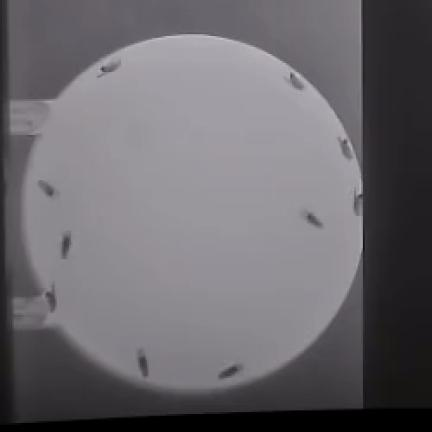fly: (218, 364, 243, 379), (99, 60, 120, 77), (339, 137, 354, 160), (303, 211, 323, 228), (45, 285, 57, 311), (61, 231, 72, 259), (39, 180, 57, 197), (286, 72, 304, 89), (137, 350, 148, 377), (353, 191, 362, 215)
